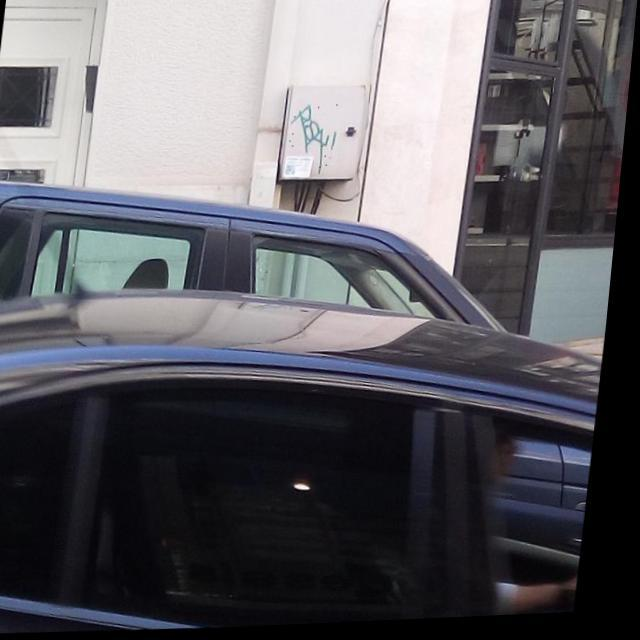-: (286, 106, 346, 178)
